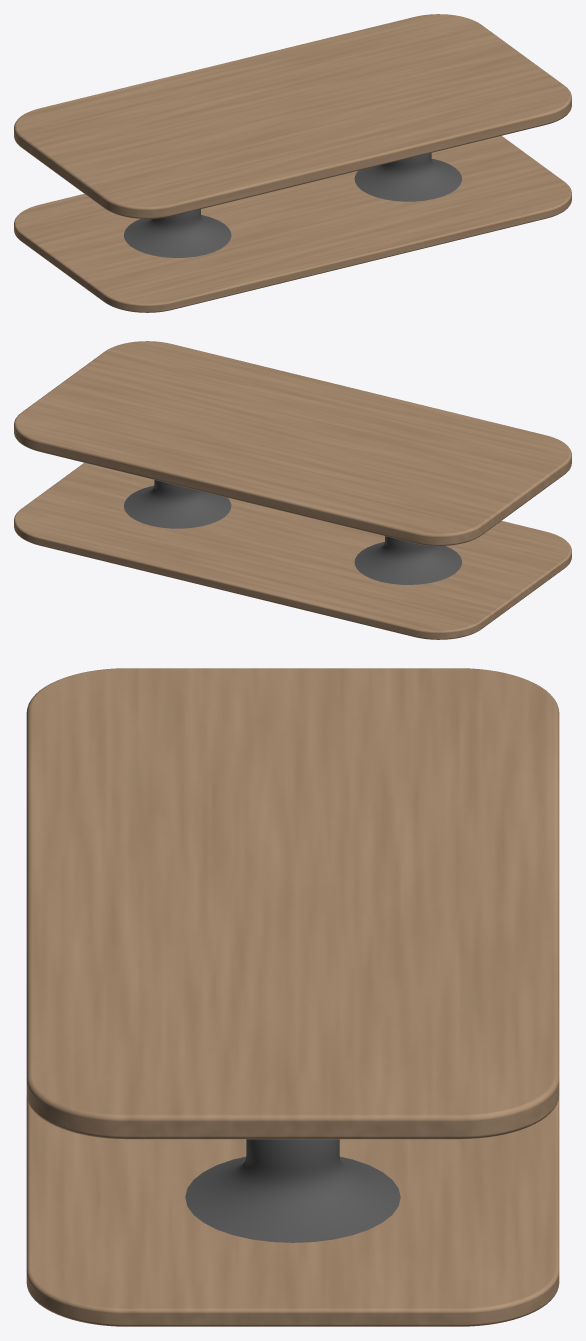
The picture shows the model from 3 angles, top to bottom: view 1: azimuth 30°, elevation 25°; view 2: azimuth 150°, elevation 25°; view 3: azimuth 270°, elevation 25°; orthographic projection. The views are drawn at different scales.
Visible parts, largest first — view 1: table_top, bottom_shelf, pedestal_legs; view 2: table_top, bottom_shelf, pedestal_legs; view 3: table_top, bottom_shelf, pedestal_legs.
Boxes of the visible parts, box(x1,y1,x2,y2) form: table_top: box(14, 14, 571, 218); bottom_shelf: box(14, 136, 571, 312); pedestal_legs: box(124, 153, 461, 257); table_top: box(14, 341, 571, 545); bottom_shelf: box(14, 463, 571, 639); pedestal_legs: box(124, 480, 461, 584); table_top: box(26, 668, 559, 1139); bottom_shelf: box(26, 1096, 559, 1326); pedestal_legs: box(185, 1139, 400, 1242).
Bounding box in the file's own units: 1.6 × 0.35 × 0.8.
3 materials, 2 textured.
